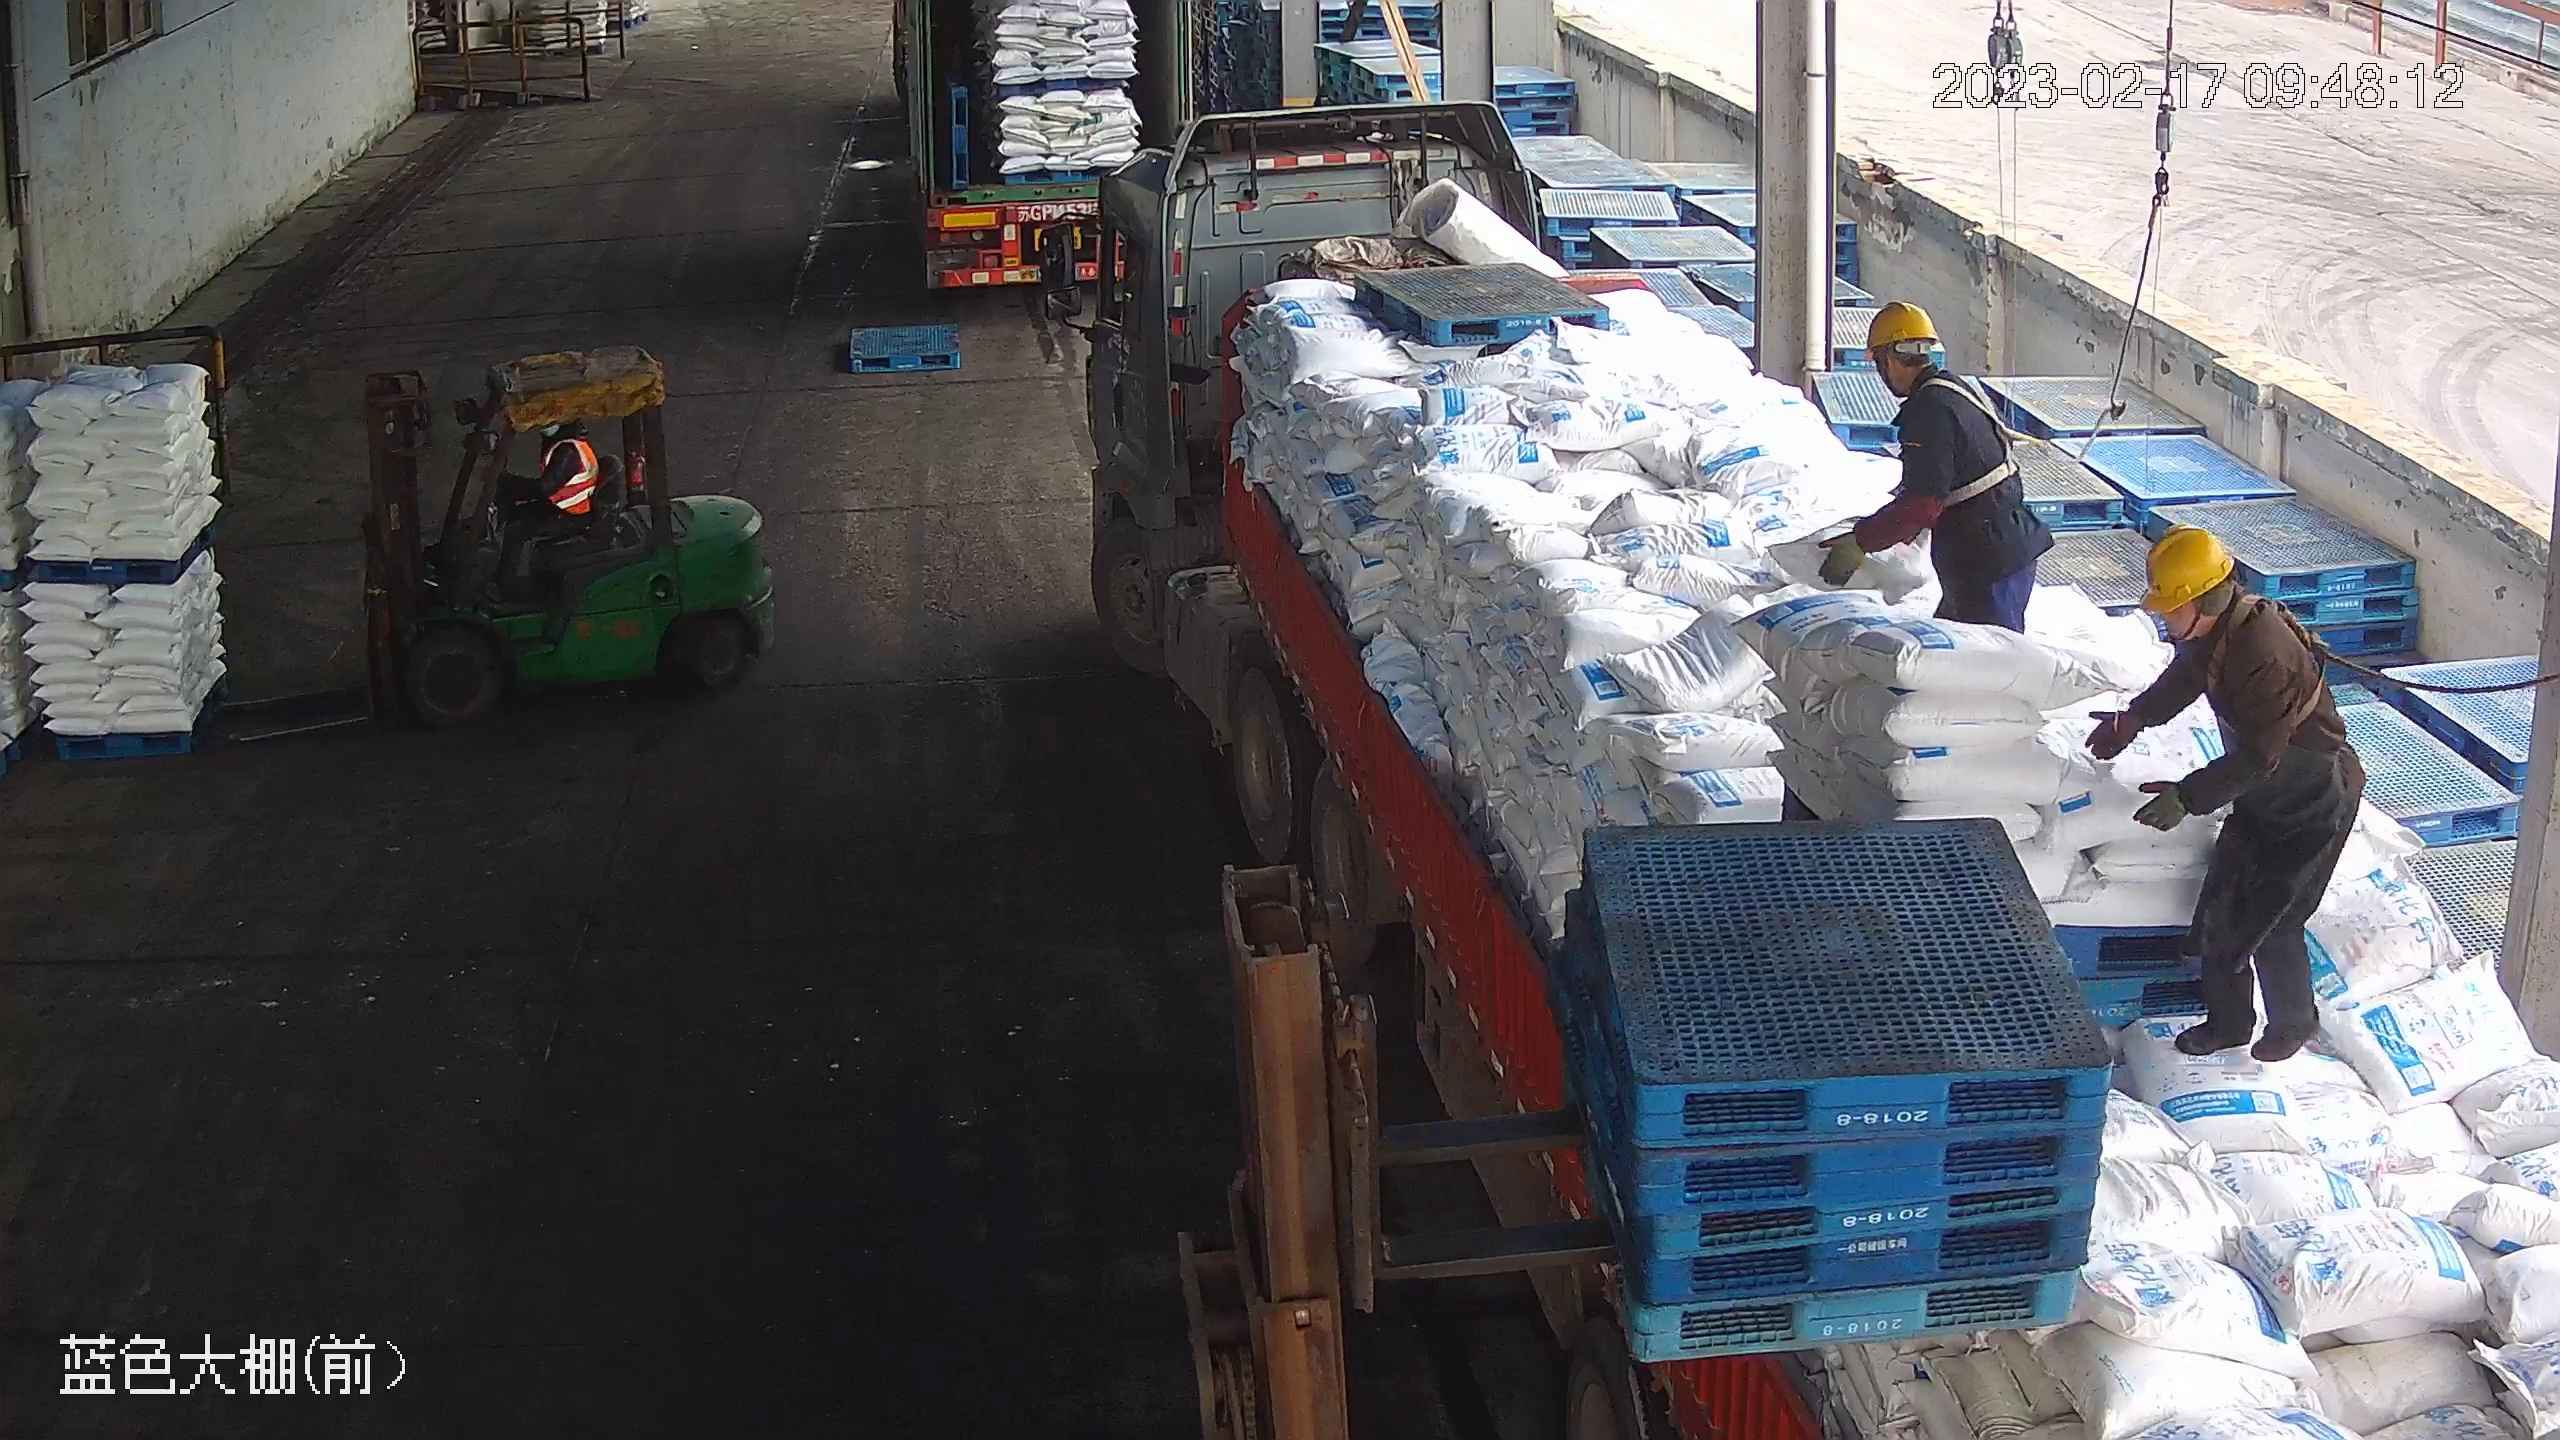belt: (2196, 601, 2330, 731), (1917, 369, 2035, 508)
head: (2127, 523, 2300, 681), (1857, 297, 2006, 437), (538, 416, 601, 472)
helmet: (2134, 521, 2237, 614), (1857, 297, 1940, 350)
people: (2084, 525, 2367, 1067), (1815, 297, 2051, 633), (488, 416, 603, 590)
truck: (1075, 120, 2558, 1437), (892, 3, 1225, 310)
